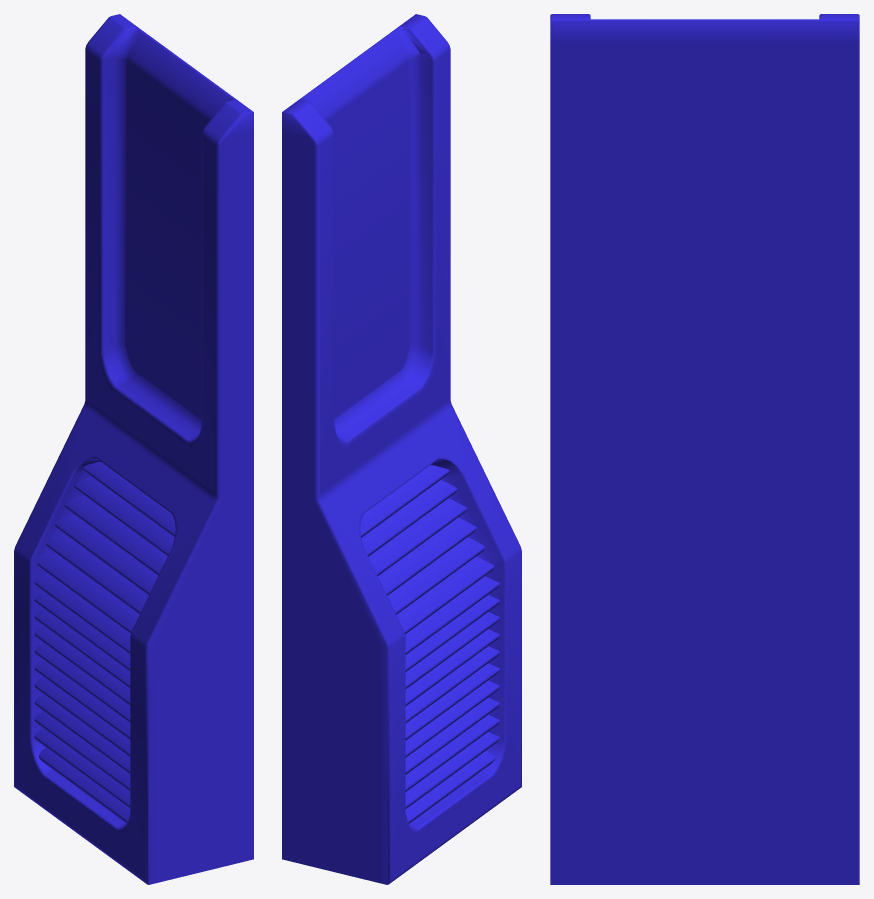
File: Detail03.fbx
3 renders of one model, left to right at view 1: azimuth 30°, elevation 25°; view 2: azimuth 150°, elevation 25°; view 3: azimuth 270°, elevation 25°, orthographic. The views are drawn at different scales.
Visible parts, largest first — view 1: SM_Detail03; view 2: SM_Detail03; view 3: SM_Detail03.
Boxes of the visible parts, left/top/right/bottom form: SM_Detail03: left=14, top=14, right=253, bottom=884; SM_Detail03: left=282, top=14, right=521, bottom=884; SM_Detail03: left=550, top=14, right=859, bottom=884.
Size of the model in its own units: 23.11 by 154 by 50.
